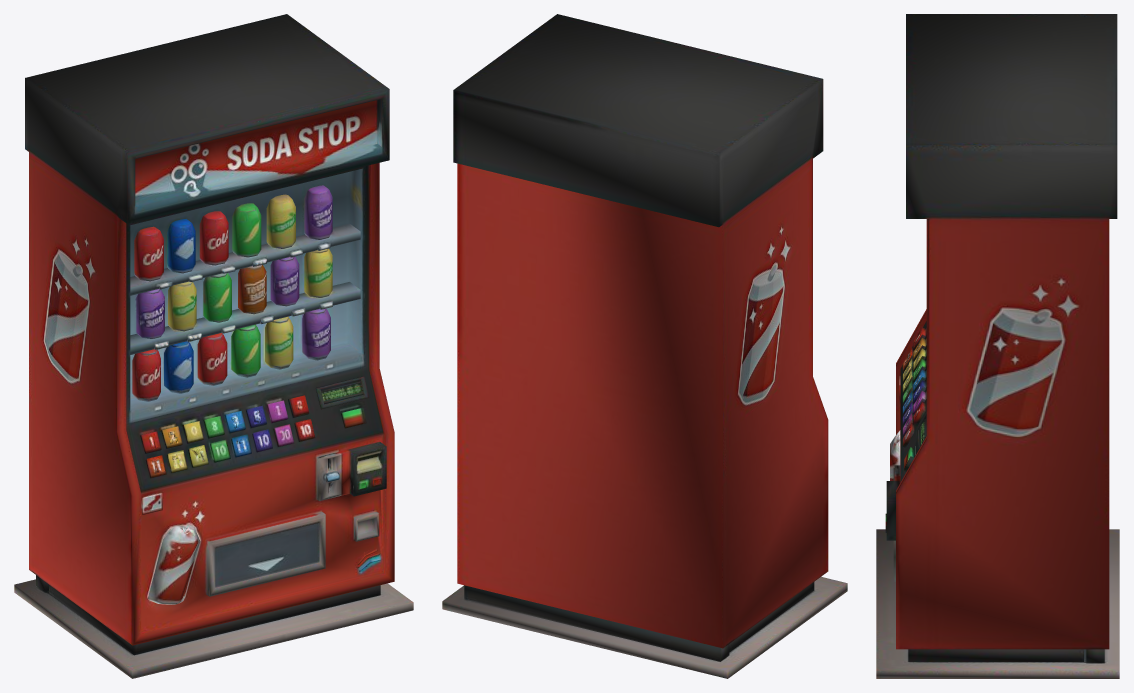
File: 음료 자판기.glb
3 views of the same model, side by side, from view 1: azimuth 30°, elevation 25°; view 2: azimuth 150°, elevation 25°; view 3: azimuth 270°, elevation 25° (orthographic). The views are drawn at different scales.
Parts seen in each view (by area): view 1: tripo_node_1839d1f9-94c0-4a6d-9059-6b312b0904fd; view 2: tripo_node_1839d1f9-94c0-4a6d-9059-6b312b0904fd; view 3: tripo_node_1839d1f9-94c0-4a6d-9059-6b312b0904fd.
Part boxes in pixels (x1,y1,x2,y2): tripo_node_1839d1f9-94c0-4a6d-9059-6b312b0904fd: (14,14,413,678); tripo_node_1839d1f9-94c0-4a6d-9059-6b312b0904fd: (442,14,847,678); tripo_node_1839d1f9-94c0-4a6d-9059-6b312b0904fd: (876,14,1119,678).
Bounding box in the file's own units: 0.5723 × 0.998 × 0.416.
Materials: 1 (1 with a texture image).
